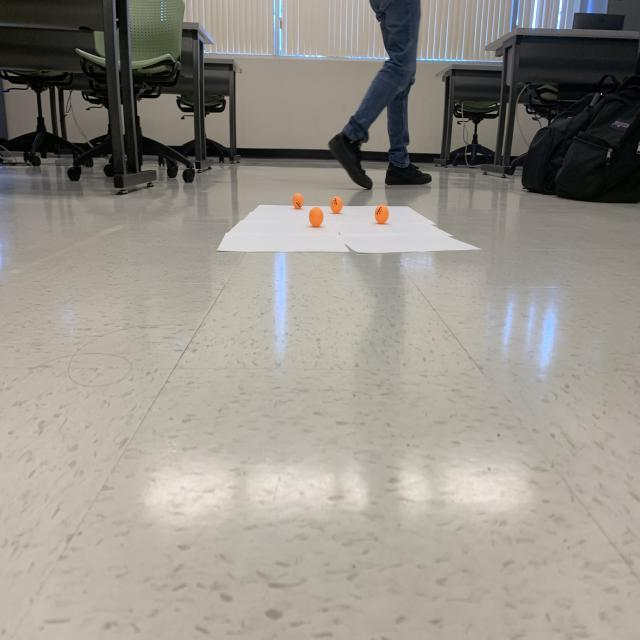ping-pong-ball: (374, 202, 389, 228), (308, 204, 324, 228), (290, 188, 305, 212), (329, 193, 343, 216)
